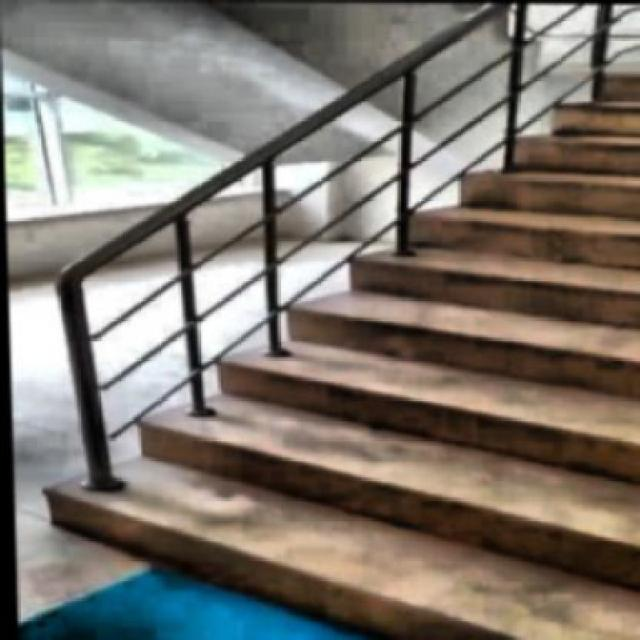stair: (19, 56, 638, 638)
